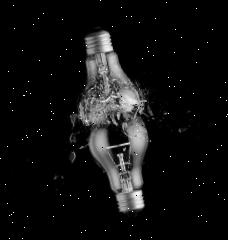lightbulb: (43, 18, 174, 226), (84, 113, 164, 221)
